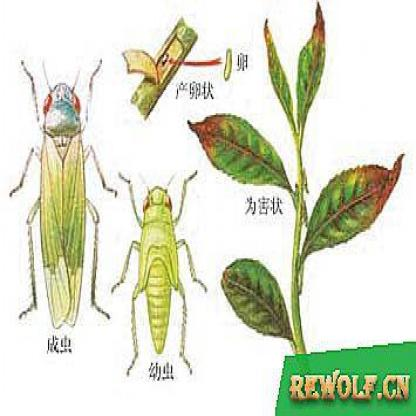Green-Leafhopper: (5, 53, 116, 331), (120, 165, 212, 375)
